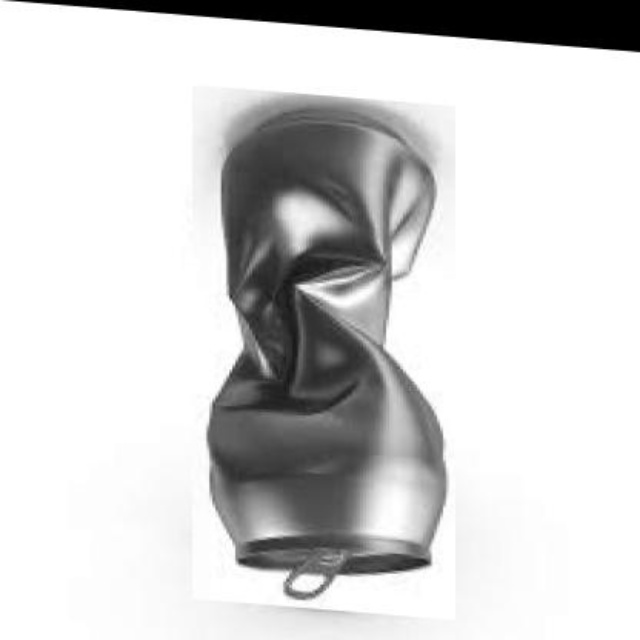trash: (206, 95, 446, 600)
